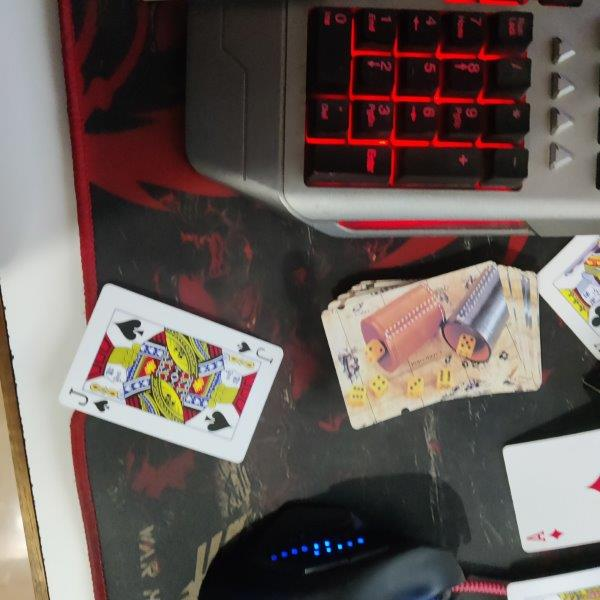Ace of Diamonds: (502, 427, 600, 554)
Jack of Spades: (58, 283, 285, 465)
King of Clubs: (537, 235, 600, 359)
